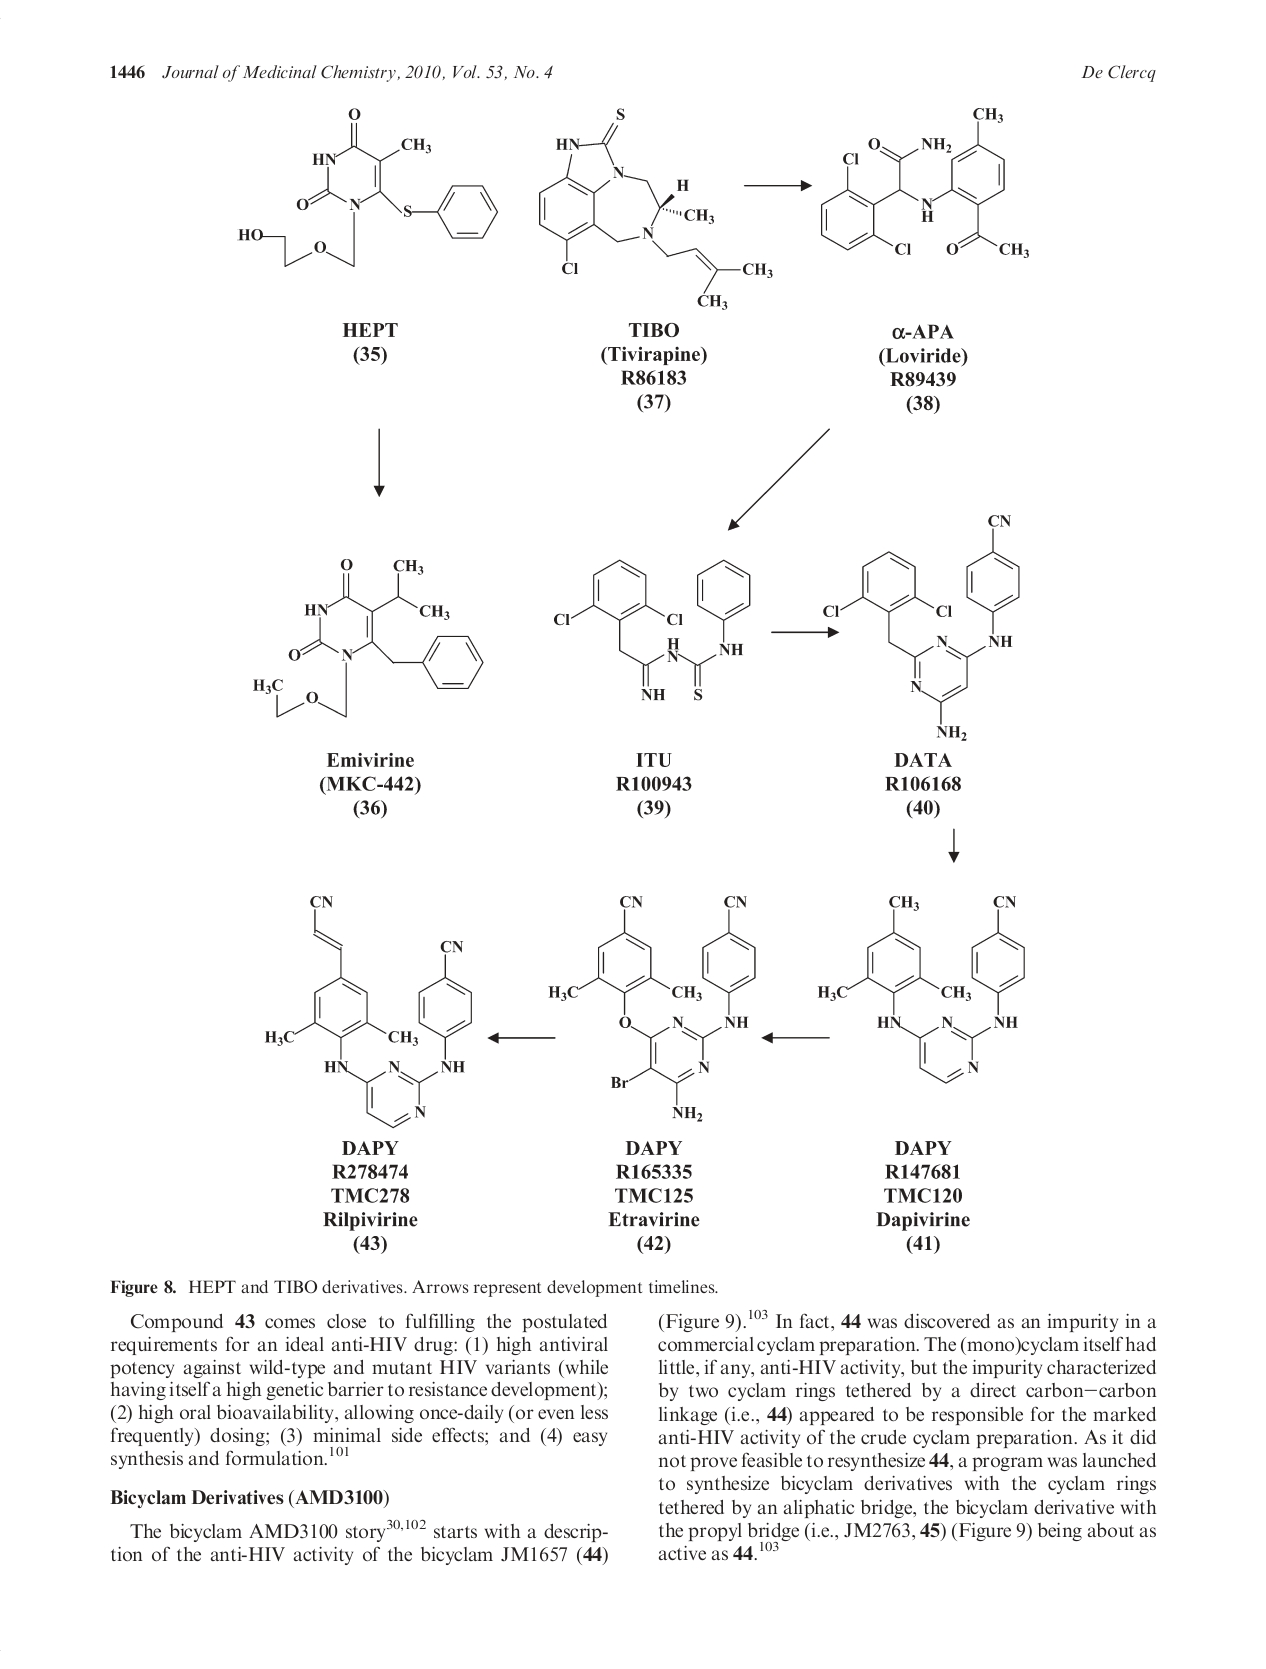exist_molecular: (265, 890, 476, 1130), (535, 106, 777, 311), (545, 892, 761, 1122), (821, 509, 1024, 742), (235, 106, 501, 271), (817, 887, 1031, 1087), (253, 556, 489, 721), (817, 105, 1033, 259), (551, 555, 755, 702)
